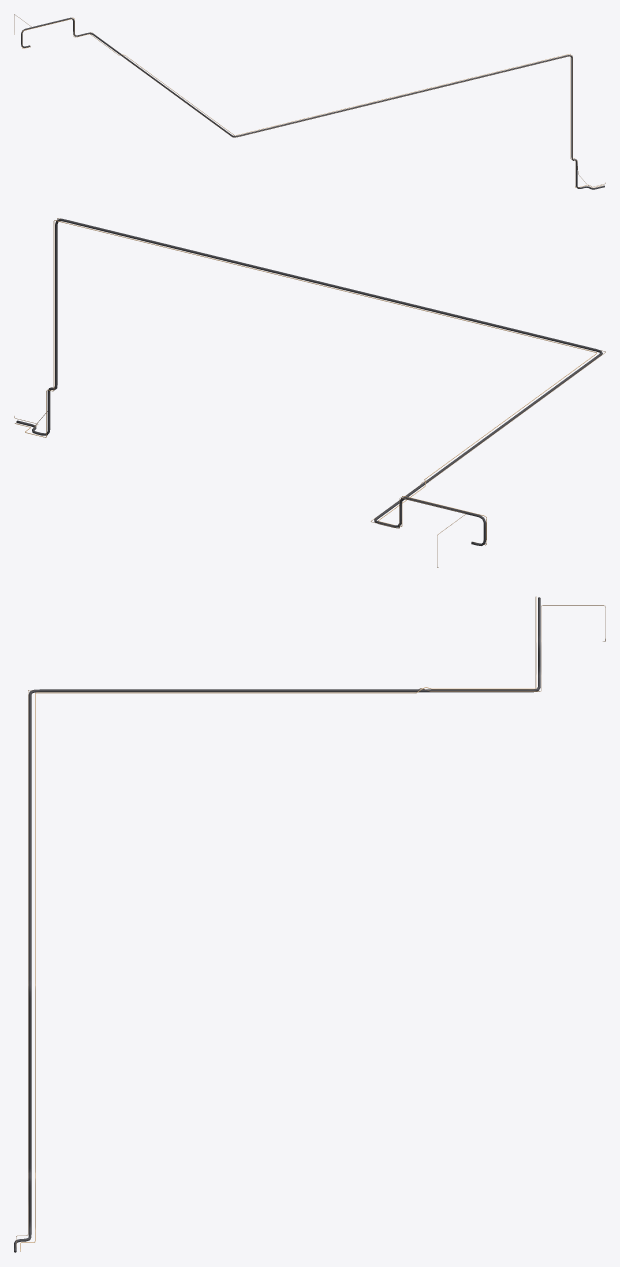
File: pipes_hvac__hvac-heatpump_attic_rp15.glb
The picture shows the model from 3 angles, top to bottom: view 1: azimuth 30°, elevation 25°; view 2: azimuth 150°, elevation 25°; view 3: azimuth 270°, elevation 25°; orthographic projection. The views are drawn at different scales.
Visible parts, largest first — view 1: pipe_hvac_lineset_suction_hp_rp15ay36, pipe_hvac_lineset_liquid_hp_rp15ay36, pipe_hvac_lineset_tstat_cable_hp_rp15ay36; view 2: pipe_hvac_lineset_suction_hp_rp15ay36, pipe_hvac_lineset_liquid_hp_rp15ay36, pipe_hvac_lineset_tstat_cable_hp_rp15ay36; view 3: pipe_hvac_lineset_suction_hp_rp15ay36, pipe_hvac_lineset_liquid_hp_rp15ay36, pipe_hvac_lineset_tstat_cable_hp_rp15ay36.
Part boxes in pixels (left/top/right/bottom): pipe_hvac_lineset_suction_hp_rp15ay36: left=21, top=17, right=604, bottom=189; pipe_hvac_lineset_liquid_hp_rp15ay36: left=22, top=18, right=603, bottom=187; pipe_hvac_lineset_tstat_cable_hp_rp15ay36: left=14, top=14, right=605, bottom=187; pipe_hvac_lineset_suction_hp_rp15ay36: left=16, top=218, right=602, bottom=545; pipe_hvac_lineset_liquid_hp_rp15ay36: left=15, top=220, right=596, bottom=545; pipe_hvac_lineset_tstat_cable_hp_rp15ay36: left=14, top=218, right=605, bottom=567; pipe_hvac_lineset_suction_hp_rp15ay36: left=14, top=597, right=540, bottom=1252; pipe_hvac_lineset_liquid_hp_rp15ay36: left=20, top=596, right=536, bottom=1251; pipe_hvac_lineset_tstat_cable_hp_rp15ay36: left=16, top=605, right=605, bottom=1248.
Size of the model in its own units: 13.27 by 4.52 by 8.71.
